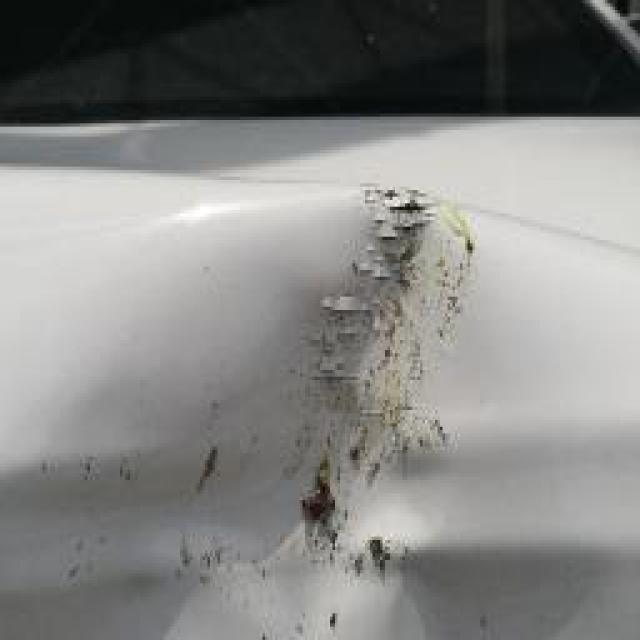Door: (55, 130, 602, 637)
